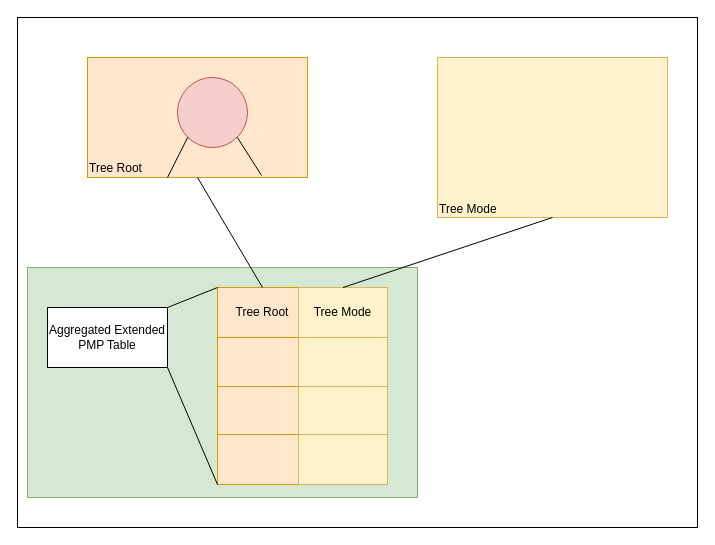
Image size: 715x545. Some labels were removed from this diagram. Here are the shapes that lost their labels. From the top down, the box of each, then its label:
(176, 76, 248, 148): 8-bit Hashed Root
(26, 266, 418, 498): Memory Encryption Engine
